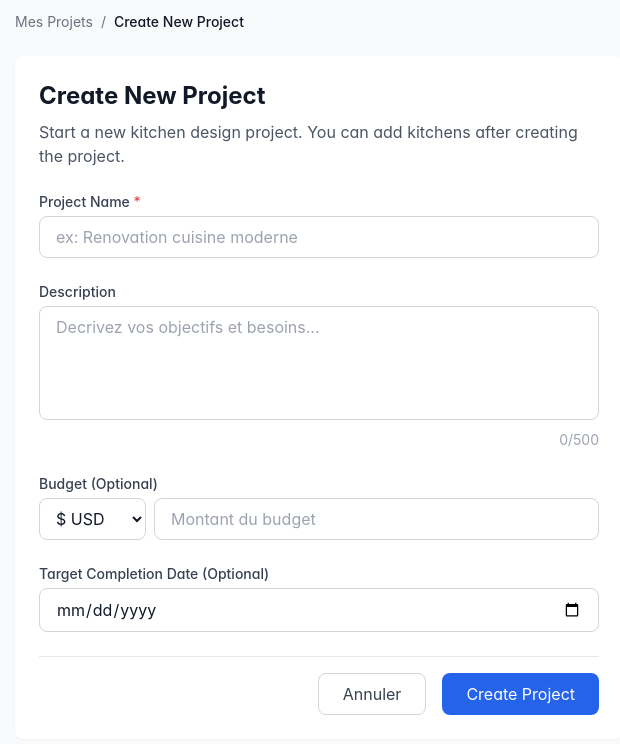
Scenario: CreateProject › Form Submission › should show generic error when fetch throws
This screenshot has width=620, height=744.
In the field labelled "Project Name *": coordinates (319, 237) [39,216,599,258], type "Test Project"
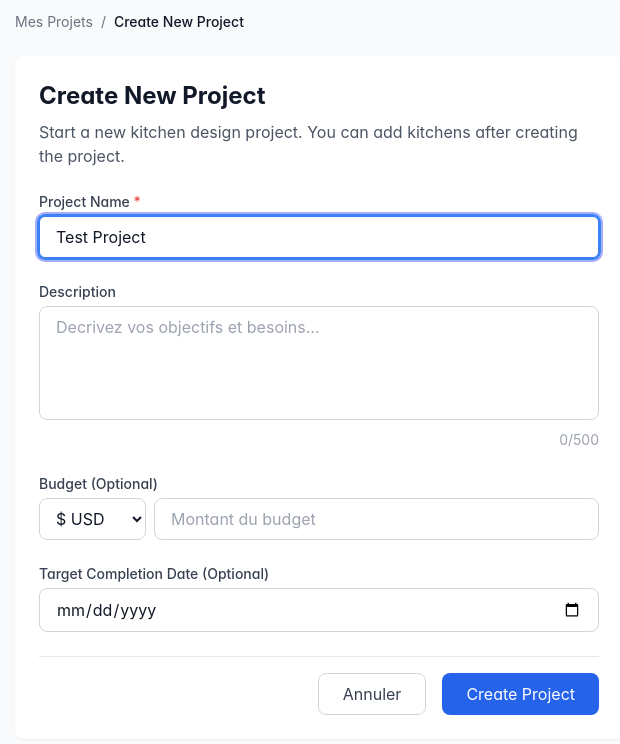
Click the button "Create Project": coordinates (521, 694) [442,673,599,715]
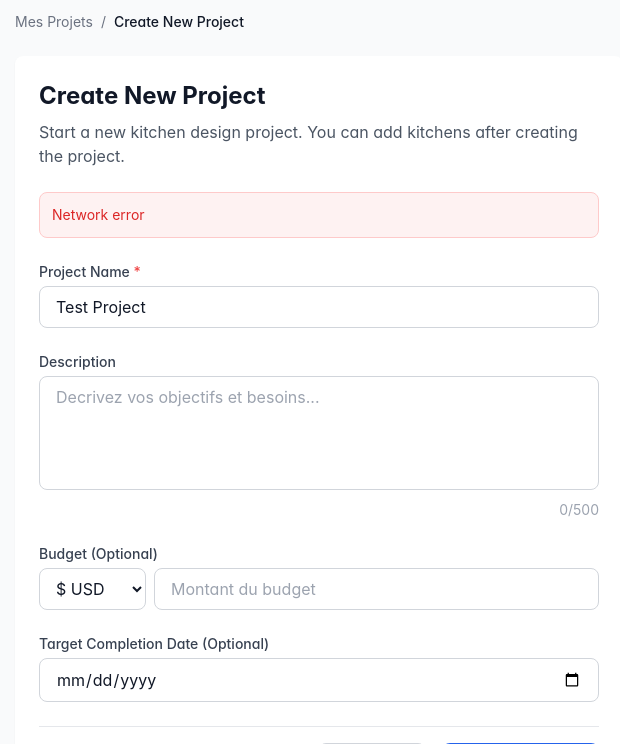
Now the message "Network error" is shown, box [39,192,599,238]
Now the text "Network error" is shown, box [52,206,145,223]
